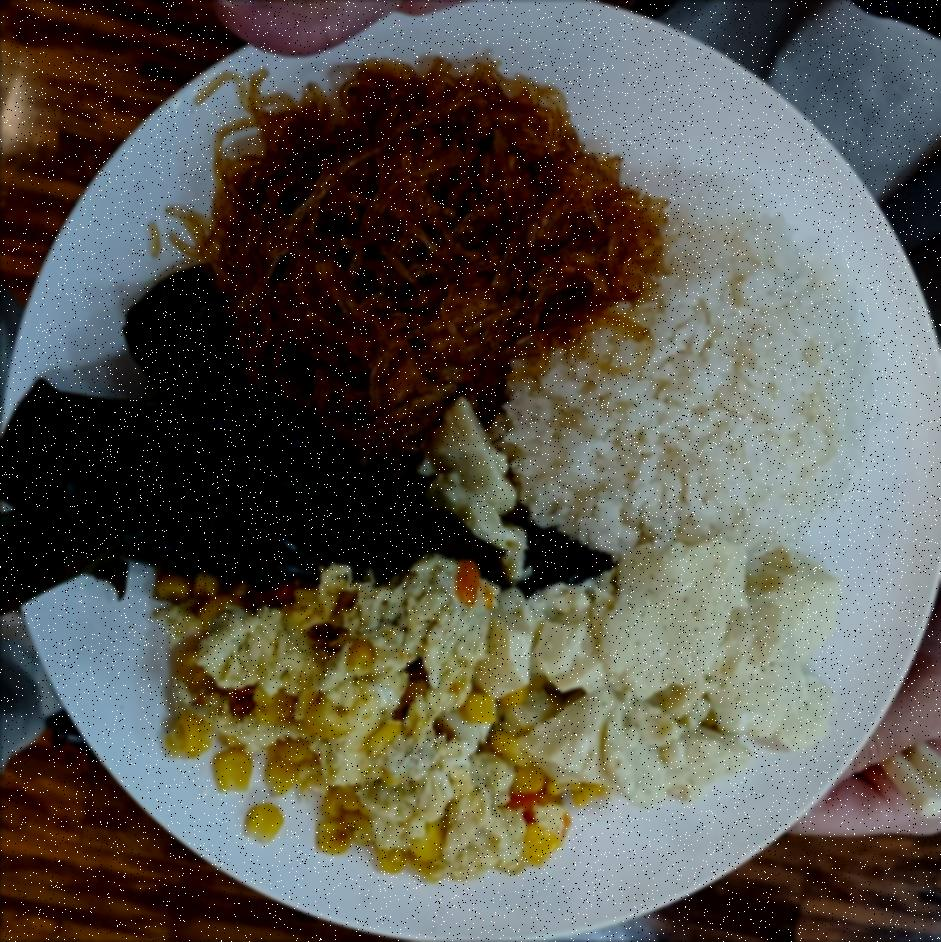big fried chicken leg: (0, 0, 935, 937)
big herbal chicken leg: (500, 215, 873, 566)
braised fish fillet: (0, 273, 605, 604), (201, 48, 671, 452), (153, 561, 595, 881), (484, 537, 845, 806)
